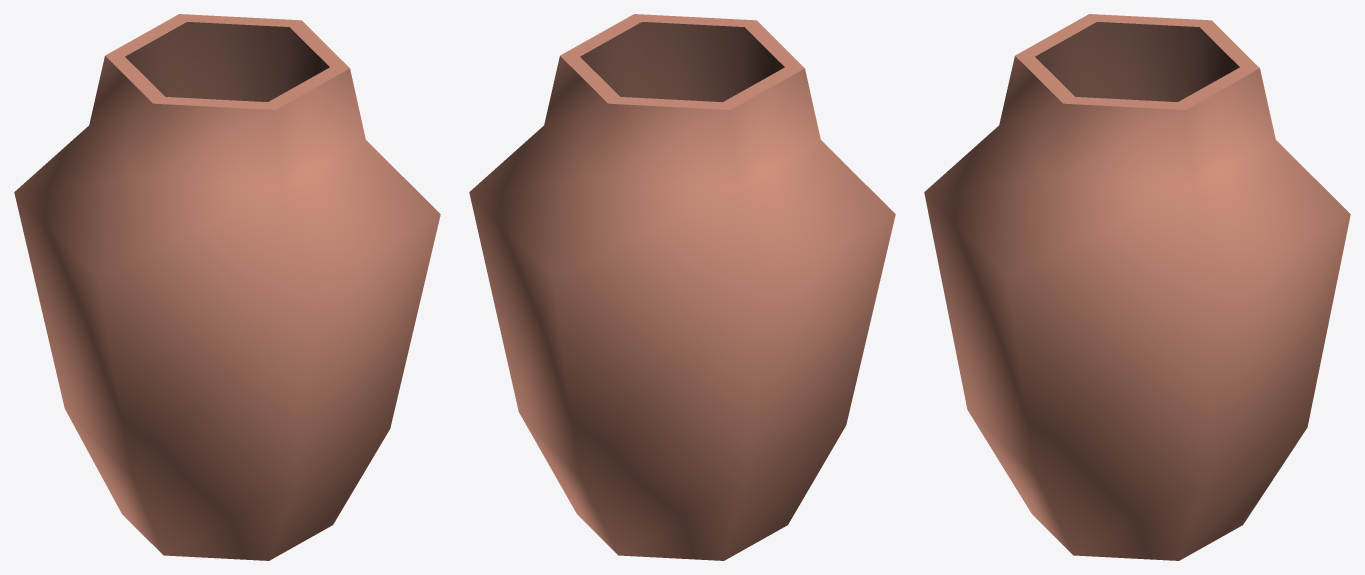
File: n4_jug_005_lev4.glb
3 views of the same model, side by side, from view 1: azimuth 30°, elevation 25°; view 2: azimuth 150°, elevation 25°; view 3: azimuth 270°, elevation 25° (orthographic).
Visible parts, largest first — view 1: n4_jug_005_lev4; view 2: n4_jug_005_lev4; view 3: n4_jug_005_lev4.
Boxes of the visible parts, box(x1,y1,x2,y2) form: n4_jug_005_lev4: box(14, 14, 440, 560); n4_jug_005_lev4: box(469, 14, 895, 560); n4_jug_005_lev4: box(924, 14, 1350, 560).
Bounding box in the file's own units: 0.6777 × 0.8652 × 0.7309.
1 material, 1 textured.
